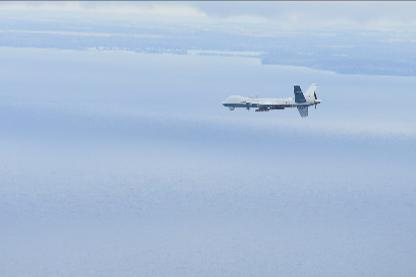MQ9: (217, 82, 323, 116)
